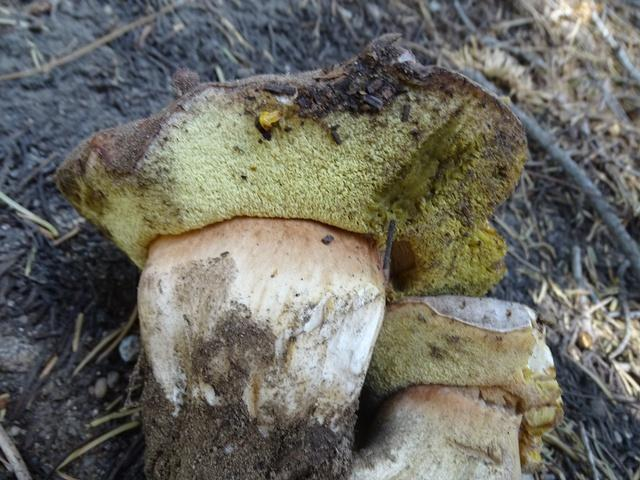Edible Mushroom: (52, 32, 562, 478)
